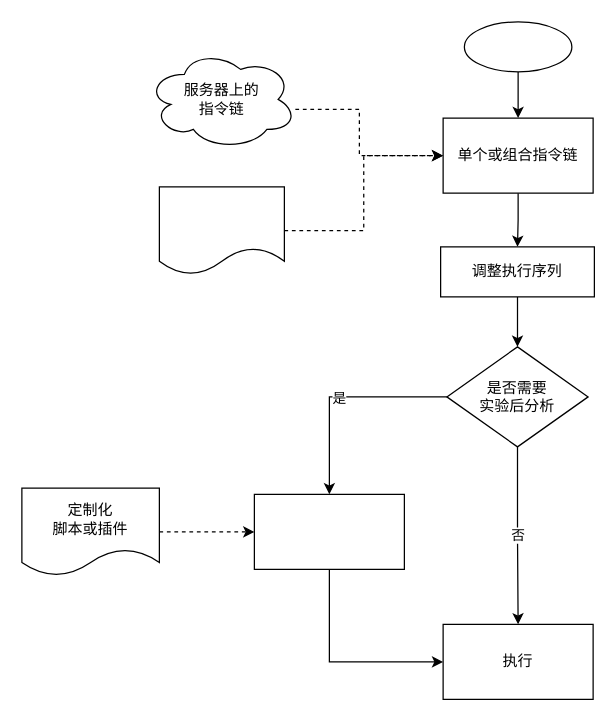
The diagram is 616 pixels wide and 721 high, and some of its shapes have lost their labels. The centre of each missing label's shape, as x and y in pixels:
创建实验: (x=517, y=46)
本地生成的 指令链: (x=221, y=230)
选择算法: (x=328, y=531)
